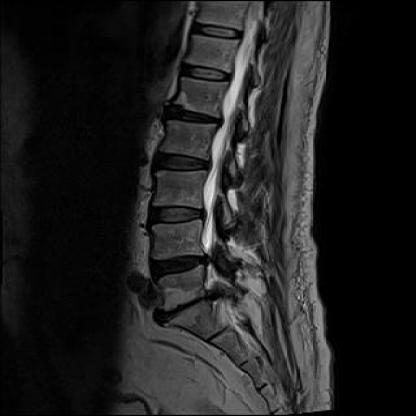Degenerative Disc Diseaserotation: (144, 249, 219, 282), (146, 293, 234, 320)
Disc Bulgerotation: (143, 249, 219, 282), (146, 294, 234, 318)
Disc Relaxationrotation: (160, 101, 228, 132), (145, 199, 209, 230), (149, 145, 213, 176)
